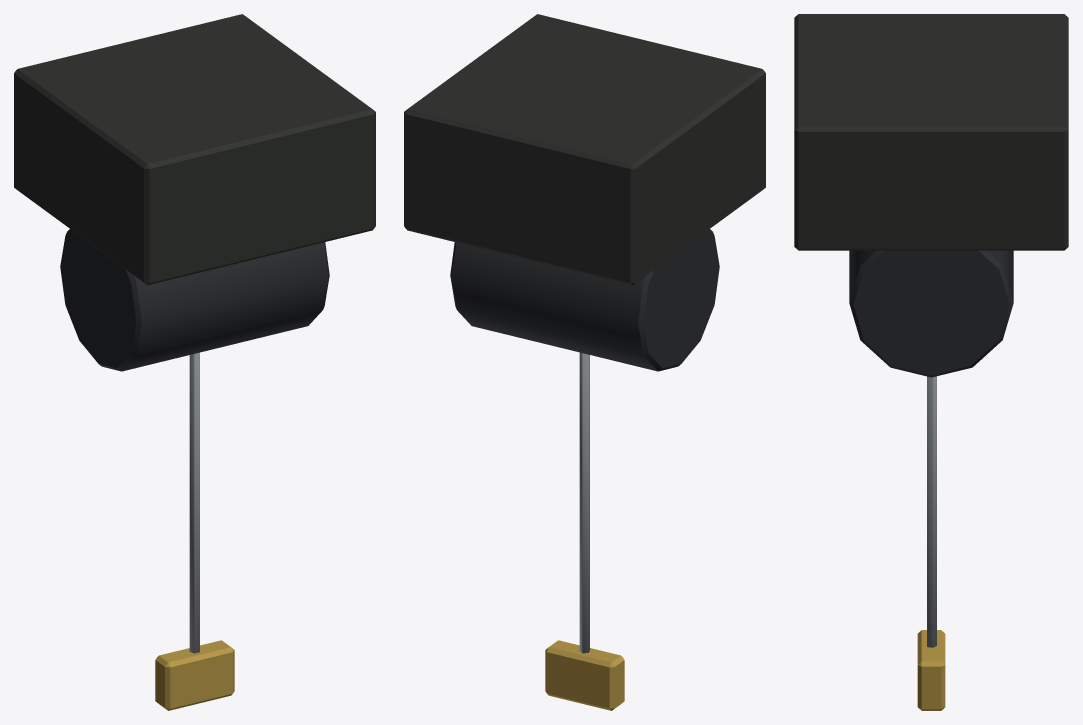
Rendered from Winch_Heavy.fbx.
3 views of the same model, side by side, from view 1: azimuth 30°, elevation 25°; view 2: azimuth 150°, elevation 25°; view 3: azimuth 270°, elevation 25° (orthographic). The views are drawn at different scales.
Visible parts, largest first — view 1: Winch_Heavy; view 2: Winch_Heavy; view 3: Winch_Heavy.
Boxes of the visible parts, box(x1,y1,x2,y2) form: Winch_Heavy: box(14, 14, 375, 710); Winch_Heavy: box(404, 14, 765, 710); Winch_Heavy: box(794, 14, 1068, 710).
Size of the model in its own units: 0.6 by 1.51 by 0.6.
